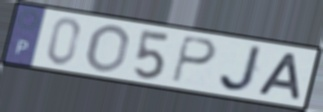0: (45, 16, 83, 67)
5: (130, 27, 175, 82)
A: (254, 51, 302, 102)
J: (217, 44, 266, 94)
O: (84, 23, 132, 74)
P: (170, 34, 218, 85)
